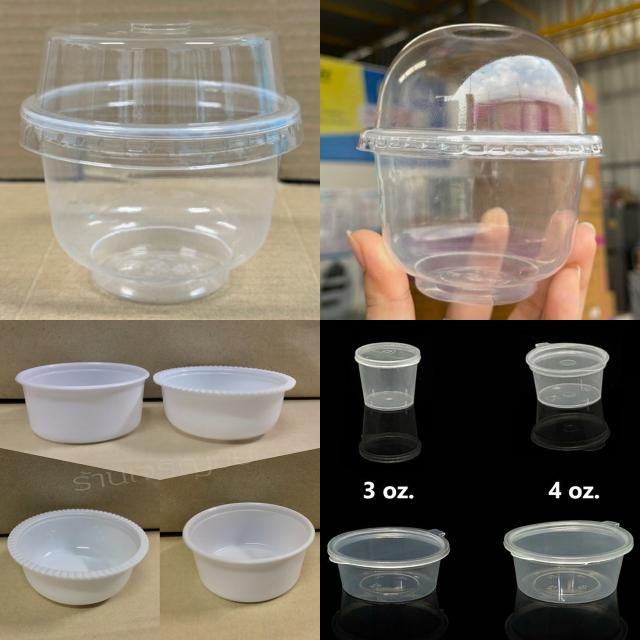Single-Use-Plastic: (21, 21, 302, 303), (360, 24, 602, 305), (8, 510, 149, 605), (184, 502, 314, 602), (16, 362, 149, 444), (504, 520, 634, 603), (154, 366, 296, 439), (329, 528, 450, 602), (526, 344, 609, 409), (355, 342, 421, 411)
